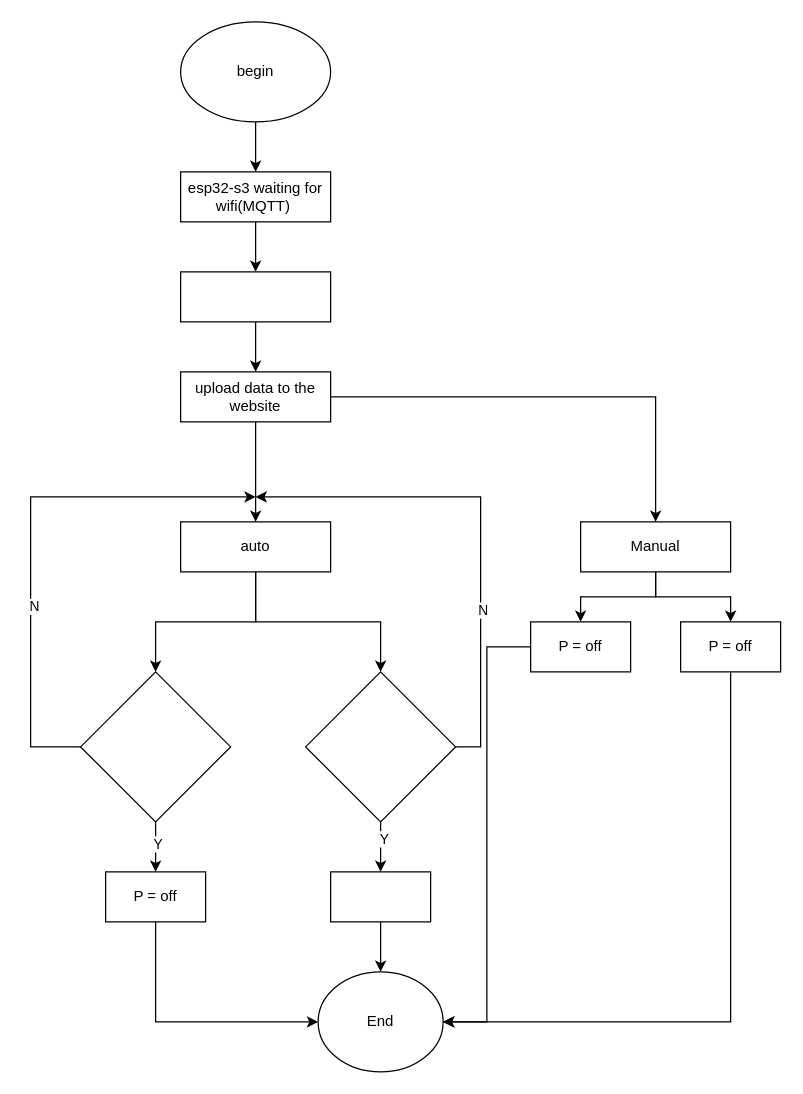
The diagram is 803 pixels wide and 1094 high, and some of its shapes have lost their labels. Here are the shapes that lost their labels. From the top down, the centre of each, then its label:
At (255,296): "recieved data from sensor and WIFI(MQTT)".
At (155,746): "Hs >75% Ta < 35*C(opt)".
At (380,746): "Hs <32% Ta > 35*C(opt)".
At (380,896): "P = on".
